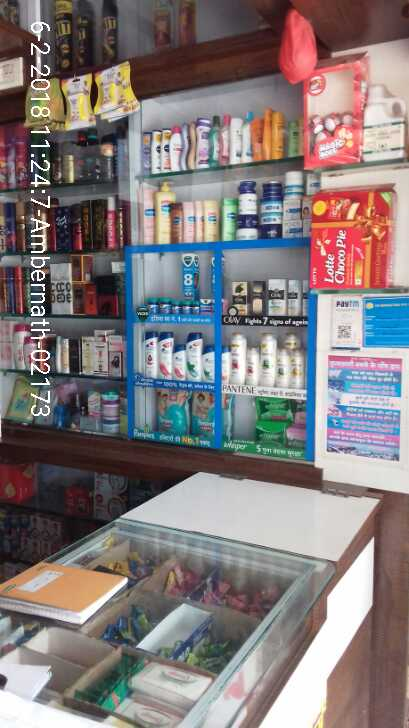beauty: (183, 321, 204, 382), (284, 276, 309, 320), (231, 324, 247, 387), (263, 278, 284, 324), (225, 280, 249, 320), (287, 346, 305, 394), (260, 329, 274, 389), (158, 330, 173, 380), (142, 325, 155, 377), (273, 351, 290, 390), (251, 280, 266, 319), (246, 349, 261, 385), (174, 339, 186, 380)
pharmacy: (193, 387, 238, 439), (153, 385, 187, 433), (170, 299, 215, 320), (249, 395, 291, 417), (248, 417, 282, 444), (157, 298, 175, 320), (144, 298, 155, 315)
